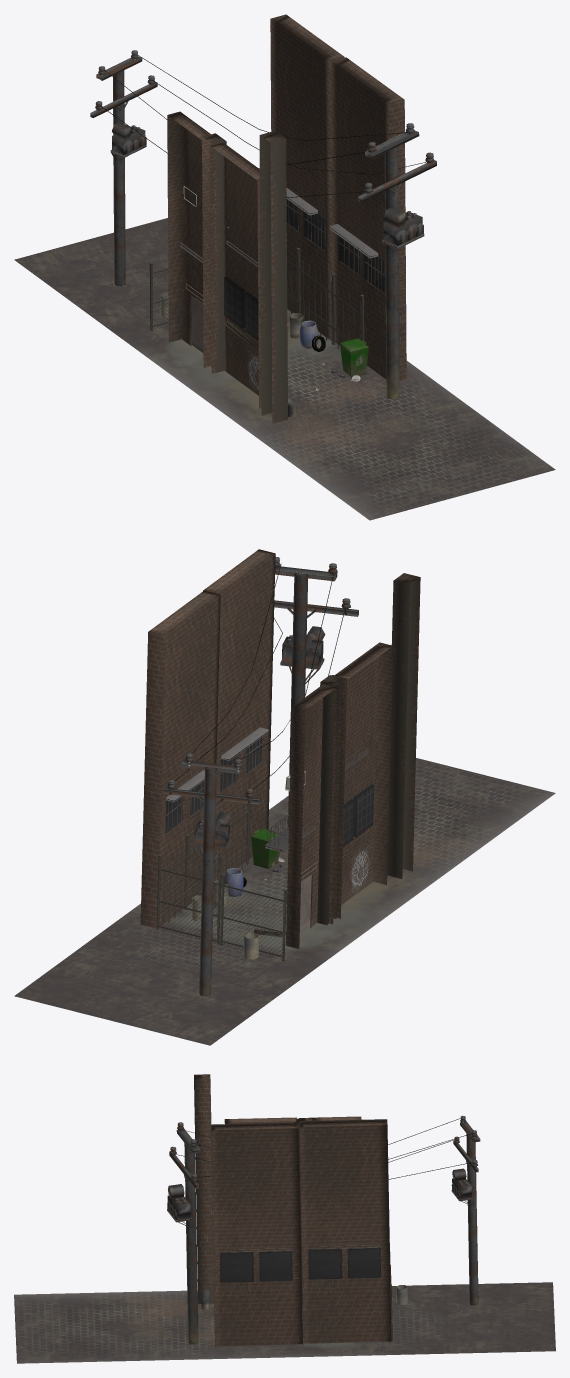
File: street.fbx
3 views of the same model, one above another, from view 1: azimuth 30°, elevation 25°; view 2: azimuth 150°, elevation 25°; view 3: azimuth 270°, elevation 25° (orthographic). The views are drawn at different scales.
Parts seen in each view (by area): view 1: street_geo, WALL_RIGHT_54, WALL_RIGHT_01, polySurface74, polySurface73, polySurface72, poll_1, poll_2, polySurface34, polySurface335, wires_geo, pCube1 (+2 smaller); view 2: street_geo, WALL_RIGHT_01, WALL_RIGHT_54, polySurface74, polySurface73, polySurface72, poll_2, METAL, poll_1, polySurface36, polySurface335, pCube1 (+2 smaller); view 3: street_geo, WALL_RIGHT_01, WALL_RIGHT_54, polySurface72, poll_1, poll_2, wires_geo, polySurface74.
Boxes of the visible parts, x1=… form: street_geo: x1=14, y1=218, x2=555, y2=520; WALL_RIGHT_54: x1=330, y1=57, x2=406, y2=380; WALL_RIGHT_01: x1=270, y1=14, x2=344, y2=340; polySurface74: x1=210, y1=142, x2=261, y2=408; polySurface73: x1=167, y1=111, x2=211, y2=367; polySurface72: x1=259, y1=130, x2=287, y2=423; poll_1: x1=358, y1=123, x2=436, y2=399; poll_2: x1=90, y1=50, x2=157, y2=286; polySurface34: x1=205, y1=138, x2=226, y2=373; polySurface335: x1=287, y1=247, x2=364, y2=348; wires_geo: x1=100, y1=54, x2=432, y2=197; pCube1: x1=340, y1=338, x2=368, y2=377; street_geo: x1=14, y1=758, x2=555, y2=1045; WALL_RIGHT_01: x1=140, y1=590, x2=220, y2=928; WALL_RIGHT_54: x1=203, y1=549, x2=275, y2=880; polySurface74: x1=334, y1=642, x2=393, y2=918; polySurface73: x1=285, y1=684, x2=339, y2=948; polySurface72: x1=387, y1=573, x2=420, y2=878; poll_2: x1=163, y1=753, x2=260, y2=996; METAL: x1=156, y1=854, x2=287, y2=961; poll_1: x1=274, y1=557, x2=358, y2=827; polySurface36: x1=317, y1=676, x2=342, y2=925; polySurface335: x1=162, y1=803, x2=250, y2=926; pCube1: x1=251, y1=828, x2=279, y2=868; street_geo: x1=14, y1=1282, x2=555, y2=1363; WALL_RIGHT_01: x1=299, y1=1119, x2=391, y2=1343; WALL_RIGHT_54: x1=211, y1=1122, x2=303, y2=1347; polySurface72: x1=194, y1=1074, x2=214, y2=1303; poll_1: x1=167, y1=1122, x2=200, y2=1344; poll_2: x1=451, y1=1115, x2=480, y2=1305; wires_geo: x1=175, y1=1118, x2=472, y2=1179; polySurface74: x1=224, y1=1117, x2=296, y2=1123.
Size of the model in its own units: 202 by 285 by 610.
